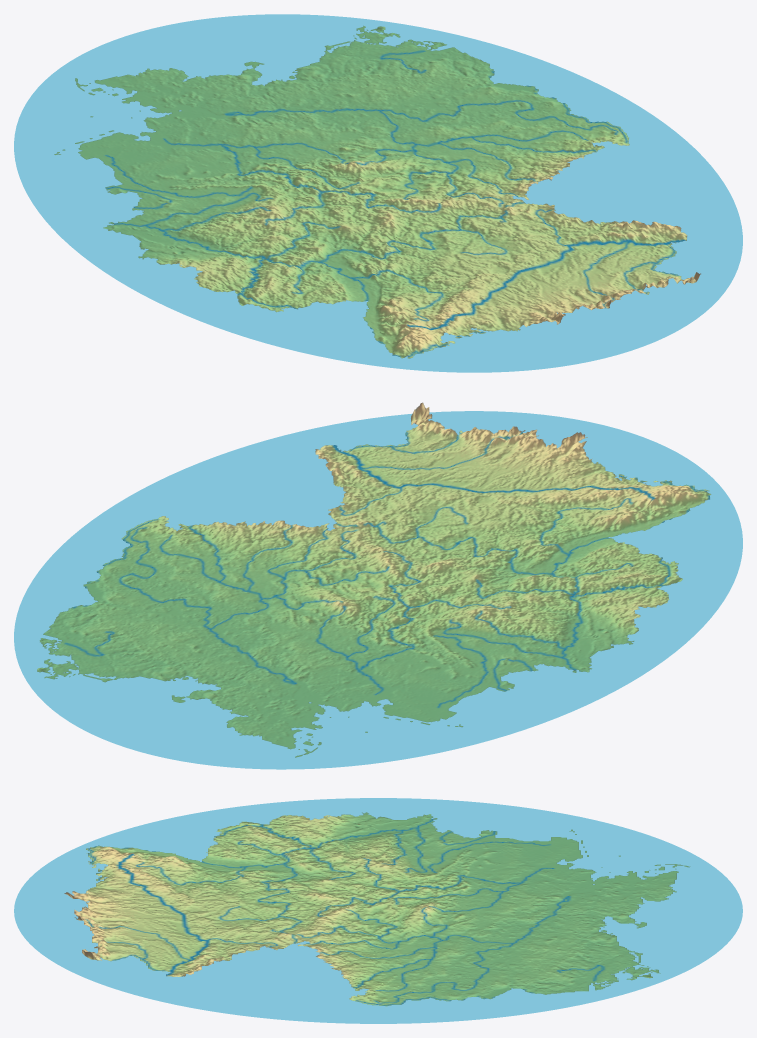
File: DEU-terrain.glb
3 views of the same model, one above another, from view 1: azimuth 30°, elevation 25°; view 2: azimuth 150°, elevation 25°; view 3: azimuth 270°, elevation 25° (orthographic). The views are drawn at different scales.
Visible parts, largest first — view 1: Relevo com hidrografia; view 2: Relevo com hidrografia; view 3: Relevo com hidrografia.
Boxes of the visible parts, box(x1,y1,x2,y2) form: Relevo com hidrografia: box(14, 14, 742, 372); Relevo com hidrografia: box(14, 402, 742, 769); Relevo com hidrografia: box(14, 798, 742, 1023).
Size of the model in its own units: 1.38 by 0.0458 by 1.88.
2 materials, 1 textured.
